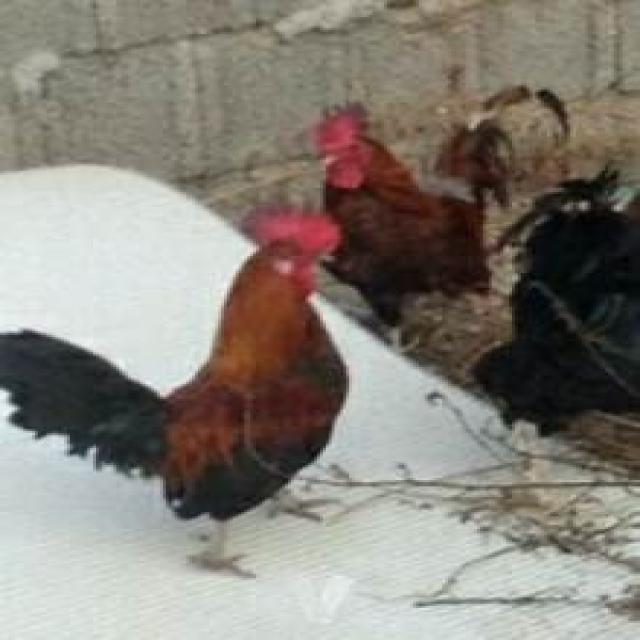hen: (0, 215, 349, 525), (314, 105, 489, 329)
